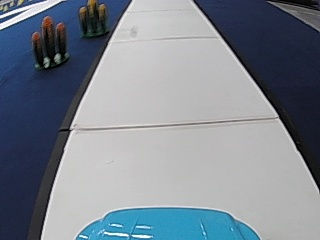corn: (31, 14, 69, 70), (78, 0, 110, 38)
